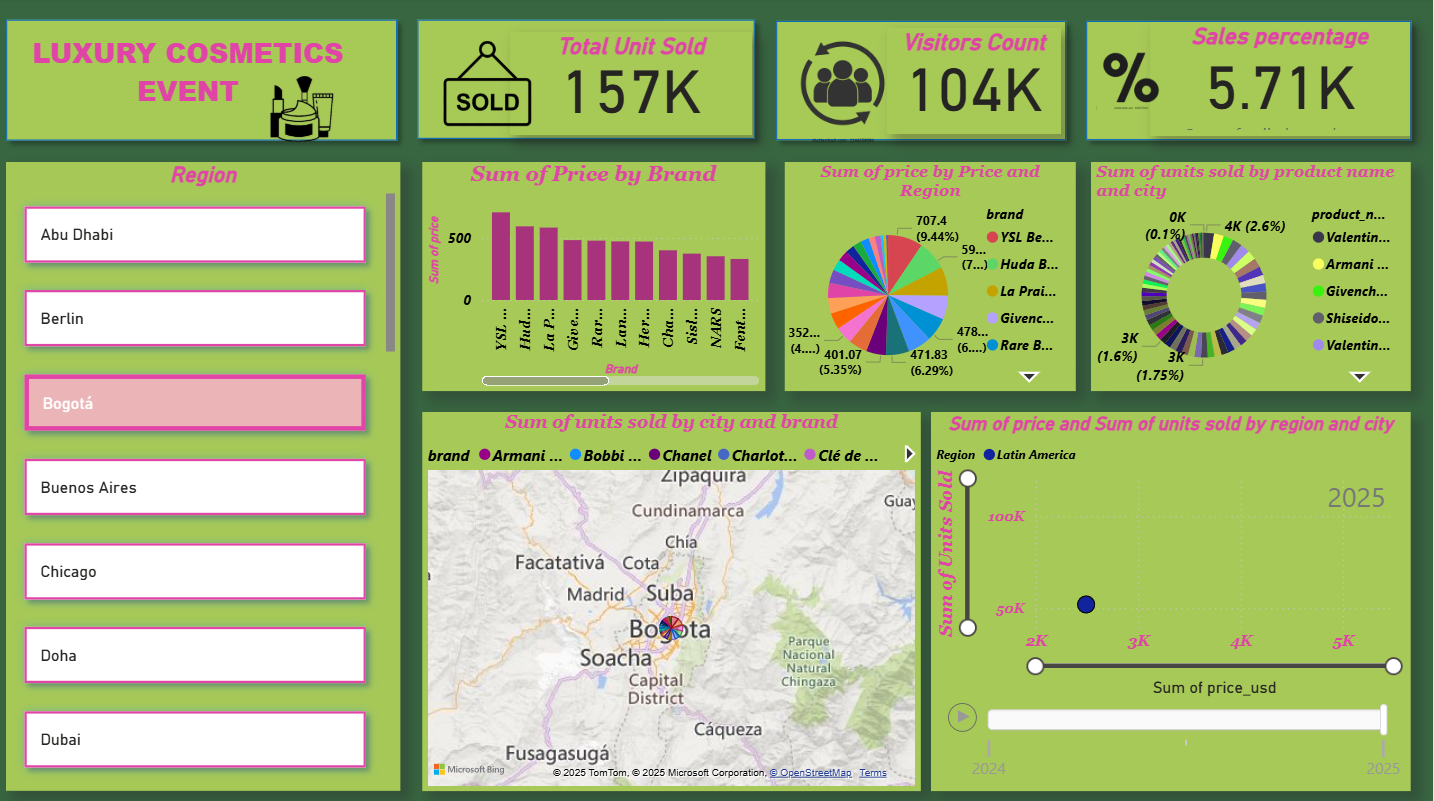

Layout of this report page (visuals, bound fields, positions):
{"tool":"powerbi","page":{"name":"Page 1","canvas":[1280,720],"ordinal":0},"visuals":[{"type":"shape","box":[0,11.1,366.2,125.8],"z":0},{"type":"textbox","box":[26.5,27.7,288.3,79.6],"z":1000},{"type":"shape","box":[366.8,10.9,318.5,124.3],"z":2000},{"type":"shape","box":[685.3,12.1,276.3,124.3],"z":3000},{"type":"shape","box":[961.5,12.1,307.6,124.3],"z":4000},{"type":"card","title":"Visitors Count","fields":{"Values":["Sum(luxury_cosmetics_popups.avg_daily_footfall)"]},"box":[793.8,27.7,154.4,94.1],"z":5000},{"type":"image","box":[702.1,24.1,103.8,112.2],"z":6000},{"type":"card","title":"Total Unit Sold ","fields":{"Values":["Sum(luxury_cosmetics_popups.units_sold)"]},"box":[457.2,31.4,216,91.7],"z":7000},{"type":"card","title":"Sales percentage","fields":{"Values":["Sum(luxury_cosmetics_popups.sell_through_pct)"]},"box":[1046,24.1,213.5,101.3],"z":8000},{"type":"image","box":[349.9,20.5,176.1,113.4],"z":9000},{"type":"image","box":[974.8,27.7,71.2,90.5],"z":10000},{"type":"columnChart","title":"Sum of Price by Brand","fields":{"Category":["luxury_cosmetics_popups.brand"],"Y":["Sum(luxury_cosmetics_popups.price_usd)"]},"box":[380,147.2,305.2,203.9],"z":11000},{"type":"donutChart","title":"Sum of units sold by product name and city","fields":{"Category":["EVENT.region"],"Series":["EVENT.city"],"Y":["Sum(EVENT.price_usd)"]},"box":[974.8,147.2,284.7,203.9],"z":12000},{"type":"map","title":"Sum of units sold by city and brand","fields":{"Category":["EVENT.city"],"Series":["EVENT.brand"],"Size":["Sum(EVENT.units_sold)"]},"box":[380,369.2,444,337.8],"z":13000},{"type":"scatterChart","title":"Sum of price and Sum of units sold by region and city","fields":{"Series":["EVENT.region"],"Size":["Sum(EVENT.units_sold)"],"X":["Sum(EVENT.price_usd)"],"Y":["Sum(EVENT.units_sold)"],"Play":["EVENT.year"]},"box":[832.4,369.2,427.1,337.8],"z":14000},{"type":"image","box":[199.1,65.1,103.8,68.8],"z":15000},{"type":"advancedSlicerVisual","title":"City","fields":{"Values":["EVENT.city"]},"box":[0,147.2,365.6,559],"z":16000},{"type":"gauge","fields":{"Y":["Sum(EVENT.price_usd)"],"TargetValue":["EVENT.target"]},"box":[698.5,147.2,266.6,203.9],"z":17000}]}

Visuals, with their boxes in screenshot pixels (x1, y1, x2, y2), scaled from the page's 1280x720 canvas onto the 1434x801 screenshot:
shape: x1=0 y1=12 x2=410 y2=152
textbox: x1=30 y1=31 x2=353 y2=119
shape: x1=411 y1=12 x2=768 y2=150
shape: x1=768 y1=13 x2=1077 y2=152
shape: x1=1077 y1=13 x2=1422 y2=152
"Visitors Count" card: x1=889 y1=31 x2=1062 y2=136
image: x1=787 y1=27 x2=903 y2=152
"Total Unit Sold " card: x1=512 y1=35 x2=754 y2=137
"Sales percentage" card: x1=1172 y1=27 x2=1411 y2=140
image: x1=392 y1=23 x2=589 y2=149
image: x1=1092 y1=31 x2=1172 y2=131
"Sum of Price by Brand" columnChart: x1=426 y1=164 x2=768 y2=391
"Sum of units sold by product name and city" donutChart: x1=1092 y1=164 x2=1411 y2=391
"Sum of units sold by city and brand" map: x1=426 y1=411 x2=923 y2=787
"Sum of price and Sum of units sold by region and city" scatterChart: x1=933 y1=411 x2=1411 y2=787
image: x1=223 y1=72 x2=339 y2=149
"City" advancedSlicerVisual: x1=0 y1=164 x2=410 y2=786
gauge - Sum(EVENT.price_usd) x EVENT.target: x1=783 y1=164 x2=1081 y2=391
